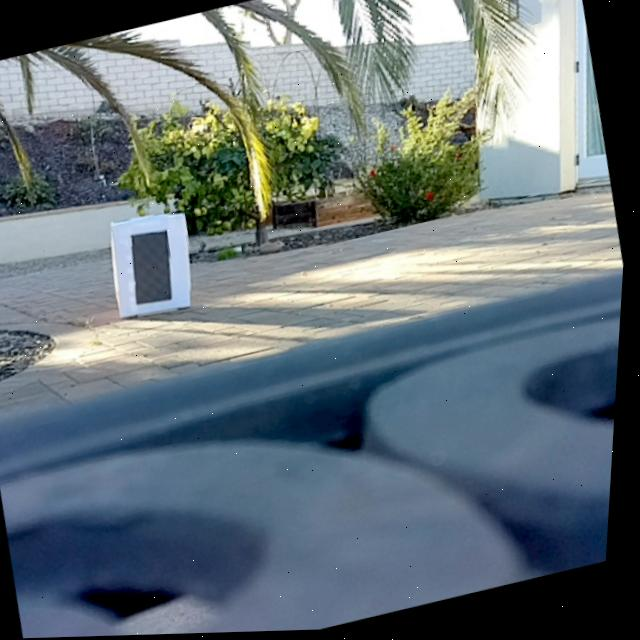led: (126, 226, 184, 307)
